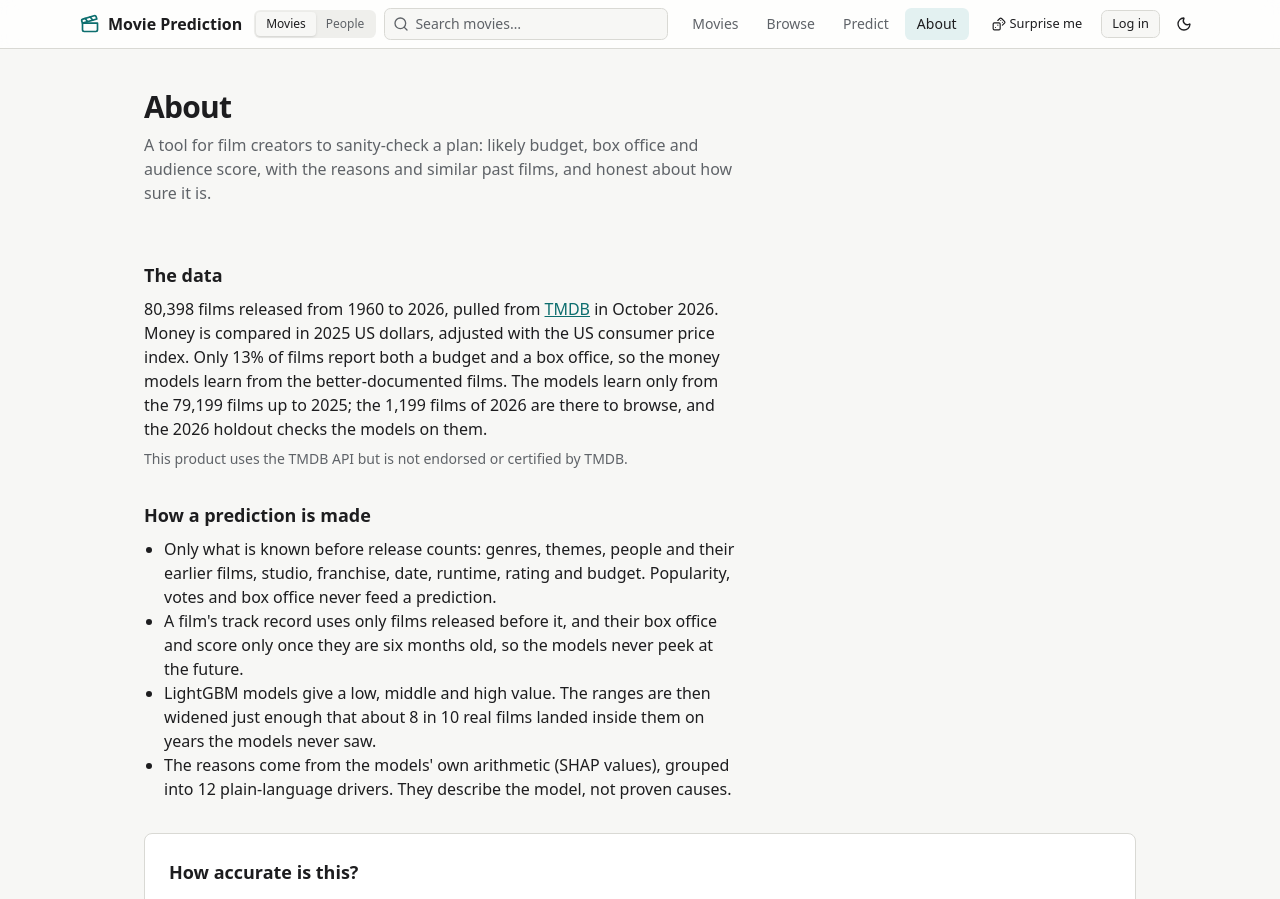
an empty search points to the other mode, which is asked only then
Type "tom hanks" into the dropdown labelled "Search movies…" at (537, 24), box [415,14,659,34]
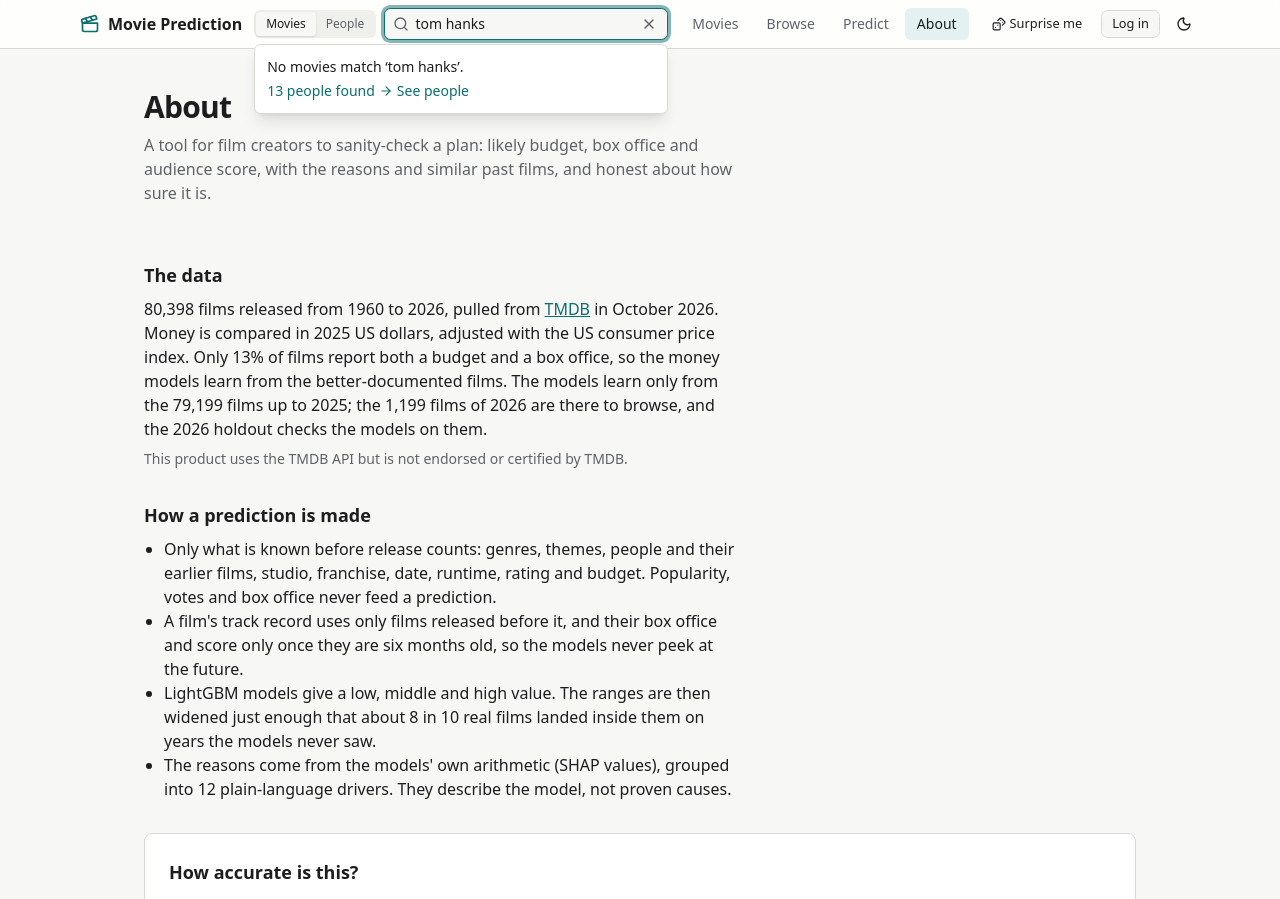
Result: the text "No movies match ‘tom hanks’." is shown at [267,57,464,76]
